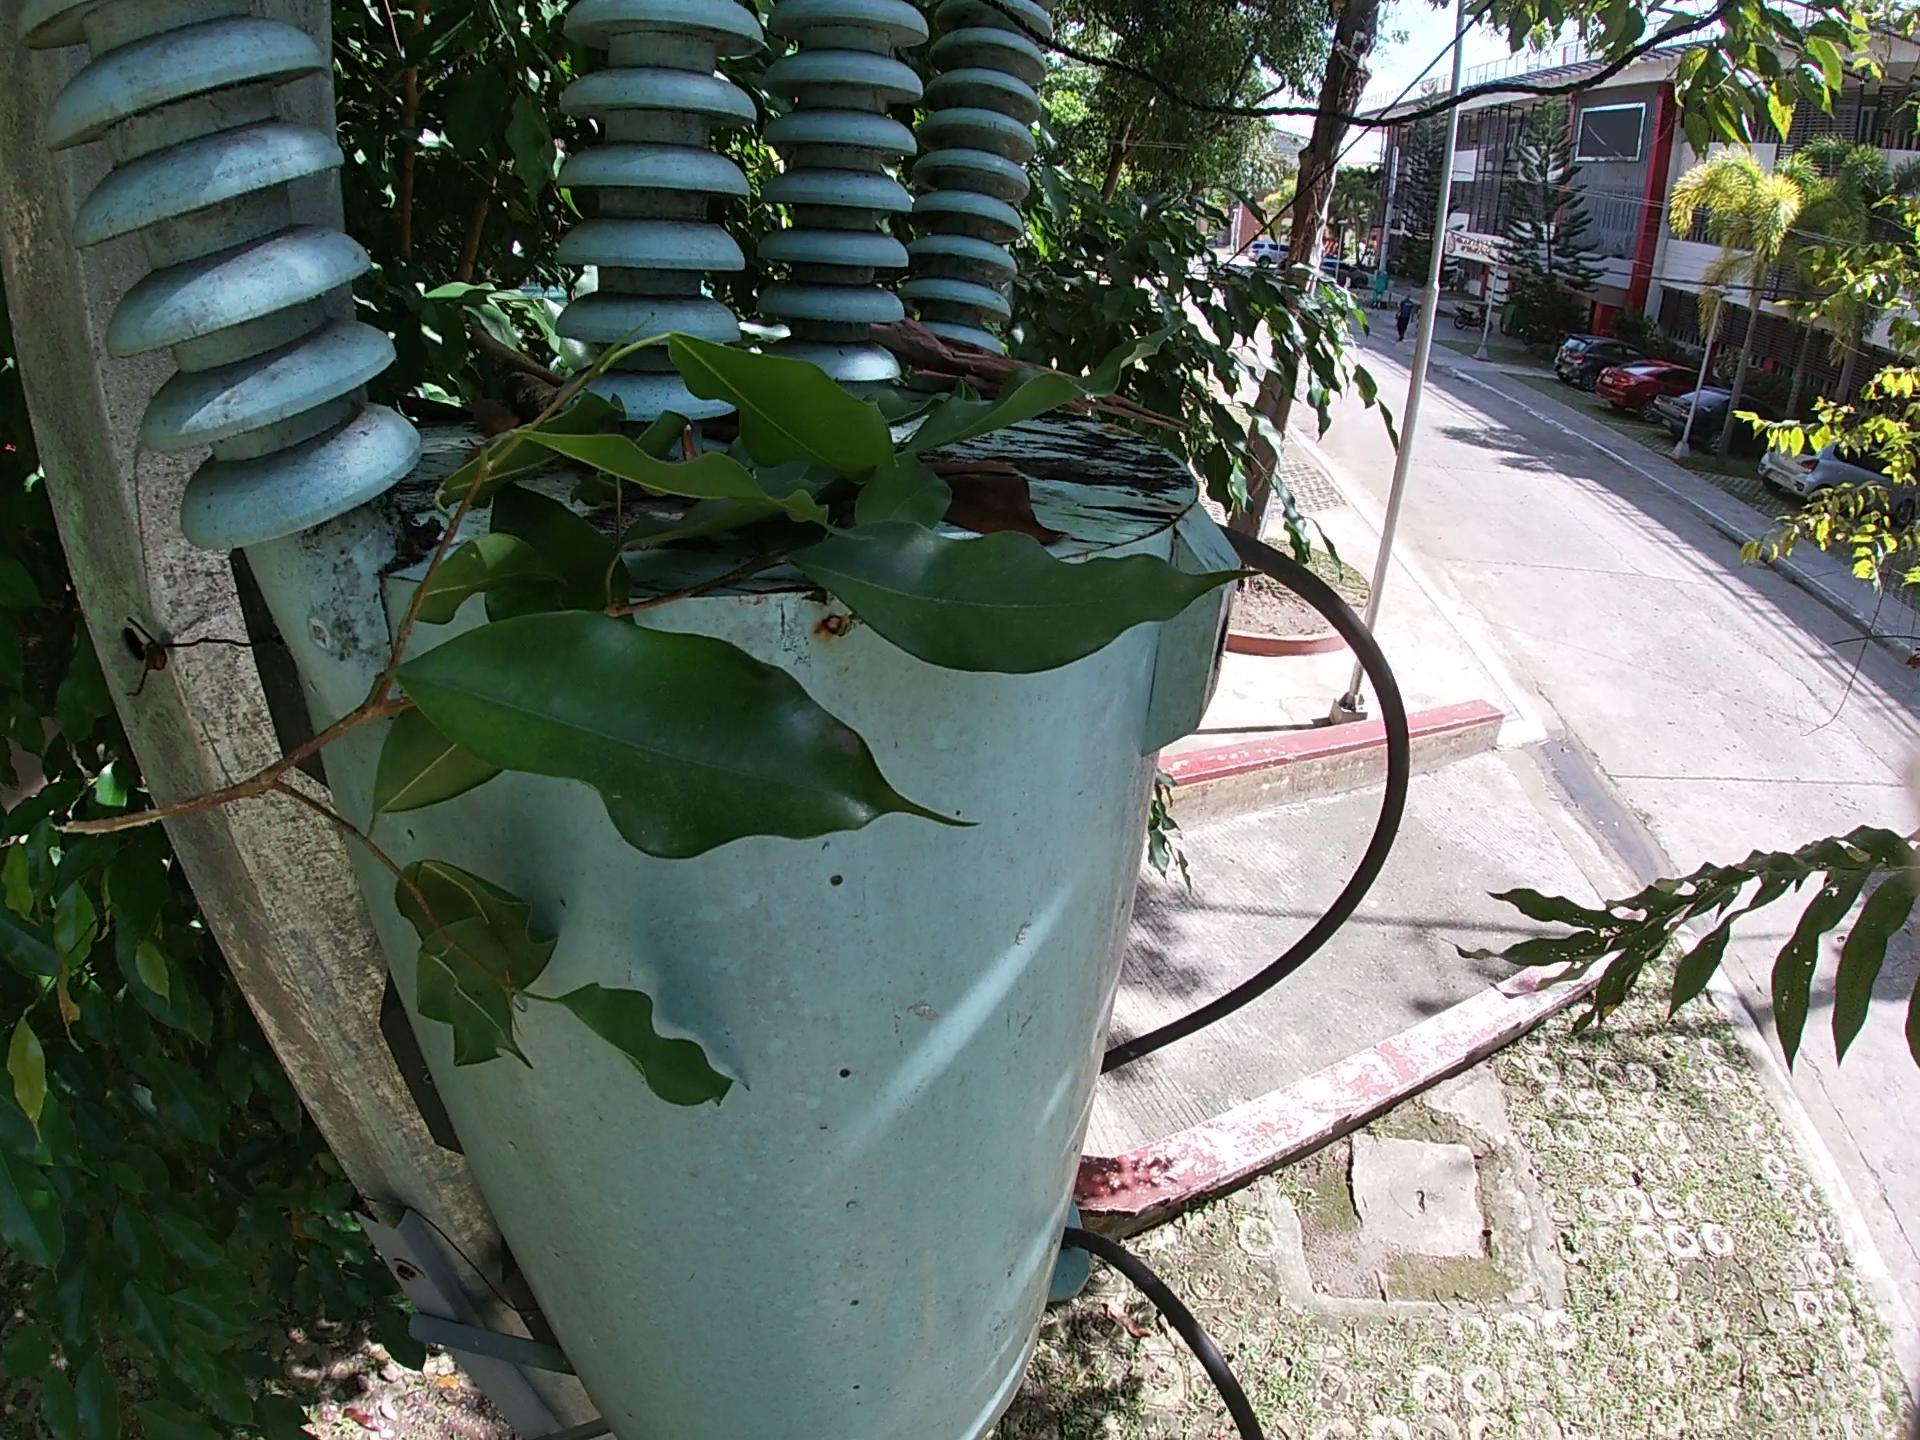branch with leaves: (50, 313, 1277, 1113)
leaf: (928, 470, 1089, 551), (461, 390, 519, 443)
tree branch: (869, 313, 1200, 437), (464, 324, 565, 392)
